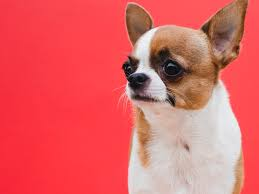chihuahua: (100, 1, 253, 159)
